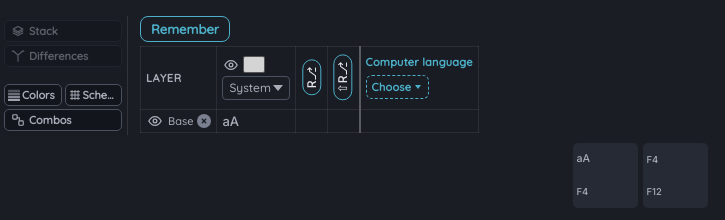
Keyboard layers › renames the active layer when Enter is pressed
The width and height of the screenshot is (725, 220).
Step 1. Click the button with class "layer-name" → (181, 121), box 168,114 -> 194,128
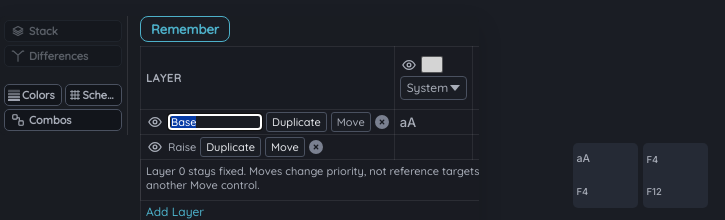
Step 2. Replace the text in the 1st field with class "layer-name" with "Lower" → (215, 122), box 168,114 -> 262,130
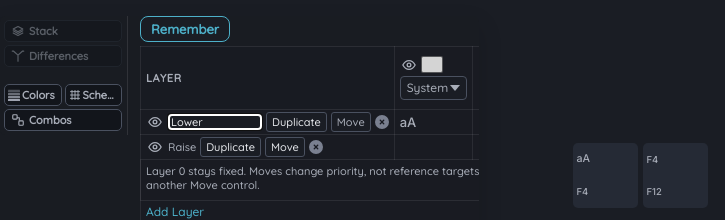
Step 3. Press Enter in the 1st field with class "layer-name", box 168,114 -> 262,130
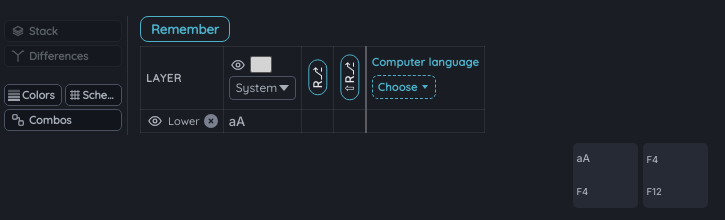
Now the button "Raise" is gone
